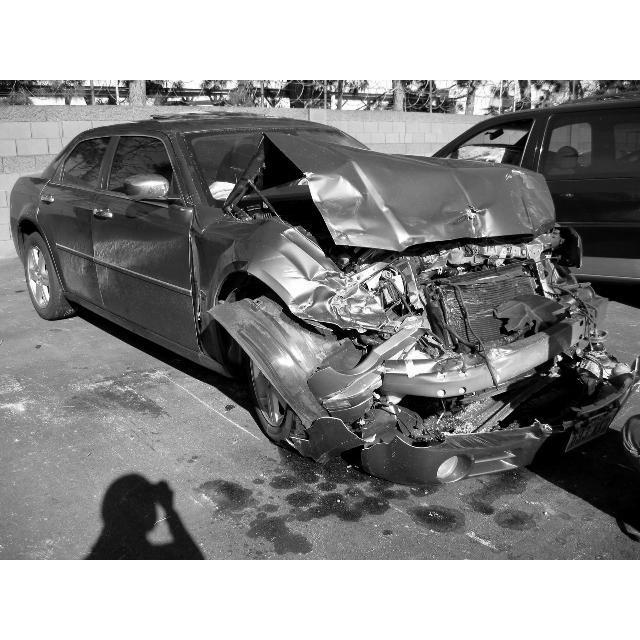bonnet-dent: (270, 131, 554, 259)
doorouter-dent: (100, 210, 192, 331)
fender-dent: (211, 233, 338, 307)
front-bumper-dent: (392, 367, 612, 460)
